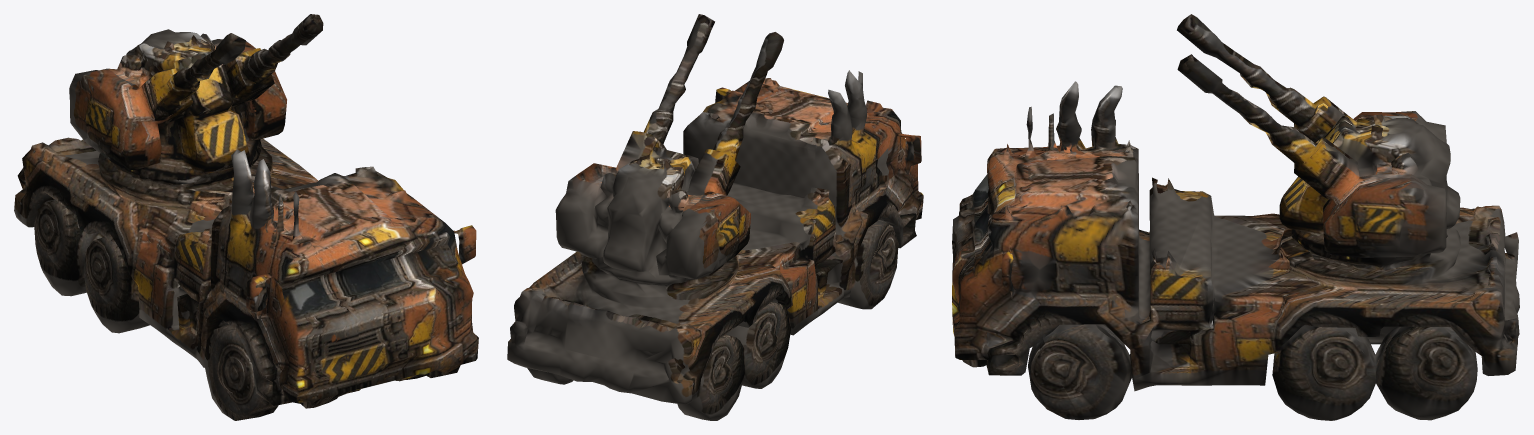
Rendered from flakwagon_lod1.glb.
3 renders of one model, left to right at view 1: azimuth 30°, elevation 25°; view 2: azimuth 150°, elevation 25°; view 3: azimuth 270°, elevation 25°, orthographic. The views are drawn at different scales.
Visible parts, largest first — view 1: geometry_0; view 2: geometry_0; view 3: geometry_0.
Part boxes in pixels (box(x1,y1,x2,y2)): geometry_0: box(14, 14, 478, 420); geometry_0: box(507, 14, 923, 420); geometry_0: box(952, 14, 1519, 420).
Size of the model in its own units: 0.9454 by 1.31 by 1.99.
1 material, 1 textured.
